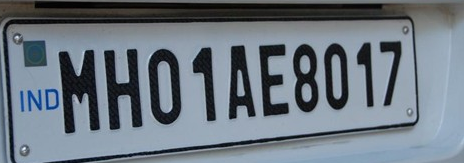0: (146, 47, 186, 126), (322, 40, 352, 110)
1: (190, 45, 223, 122), (355, 39, 378, 109)
7: (378, 38, 404, 107)
8: (292, 44, 323, 113)
A: (226, 44, 259, 120)
E: (256, 41, 292, 116)
H: (102, 46, 146, 132)
M: (57, 45, 103, 134)
